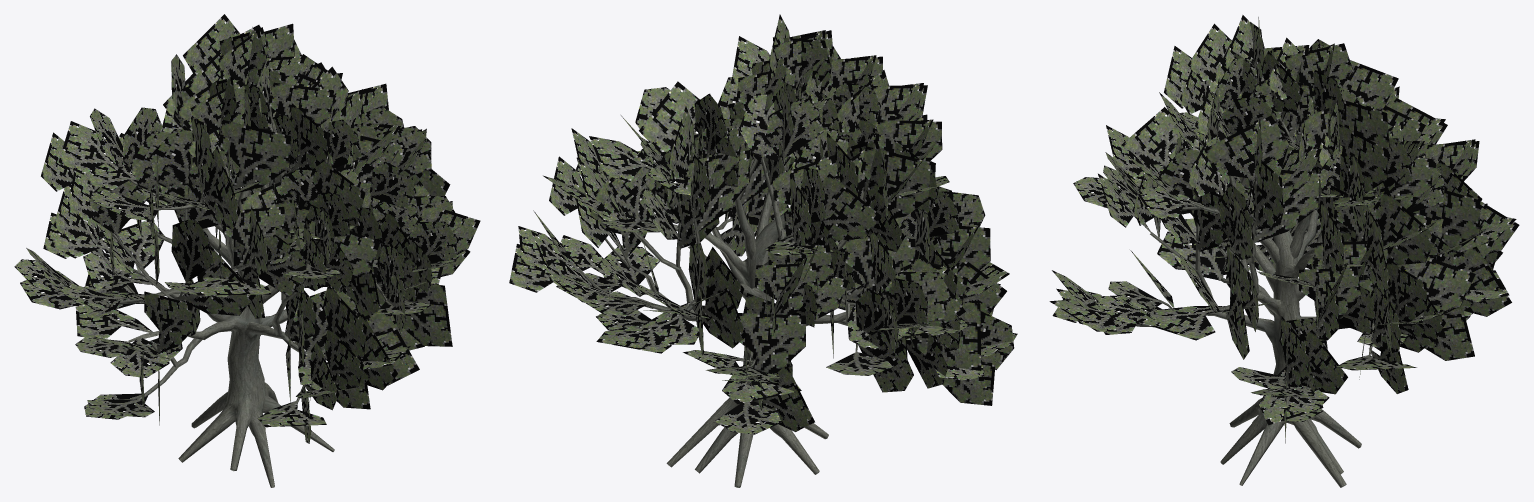
Rendered from oak_c.glb.
The picture shows the model from 3 angles, left to right: view 1: azimuth 30°, elevation 25°; view 2: azimuth 150°, elevation 25°; view 3: azimuth 270°, elevation 25°; orthographic projection.
Visible parts, largest first — view 1: oak_c_LOD0; view 2: oak_c_LOD0; view 3: oak_c_LOD0.
Part boxes in pixels (left/top/right/bottom): oak_c_LOD0: left=14, top=14, right=480, bottom=487; oak_c_LOD0: left=509, top=14, right=1017, bottom=487; oak_c_LOD0: left=1049, top=15, right=1519, bottom=487.
Size of the model in its own units: 20.59 by 21.01 by 20.43.
Materials: 1 (1 with a texture image).
